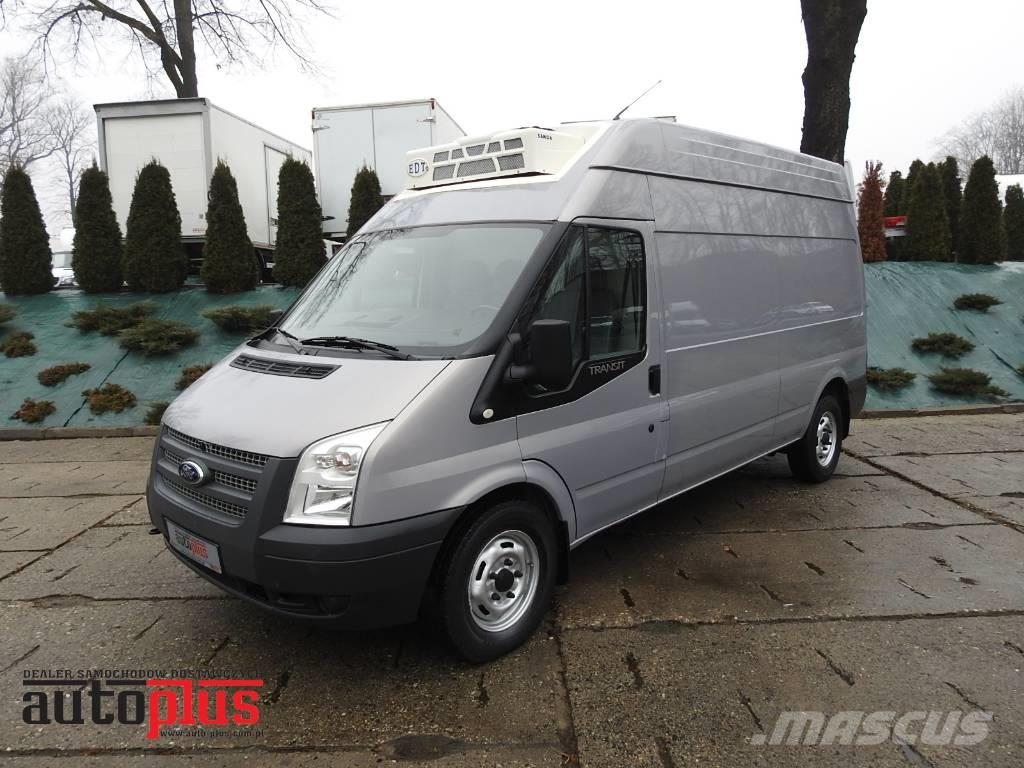van: (145, 112, 874, 661)
